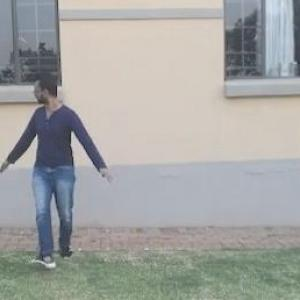land: (0, 66, 111, 274)
